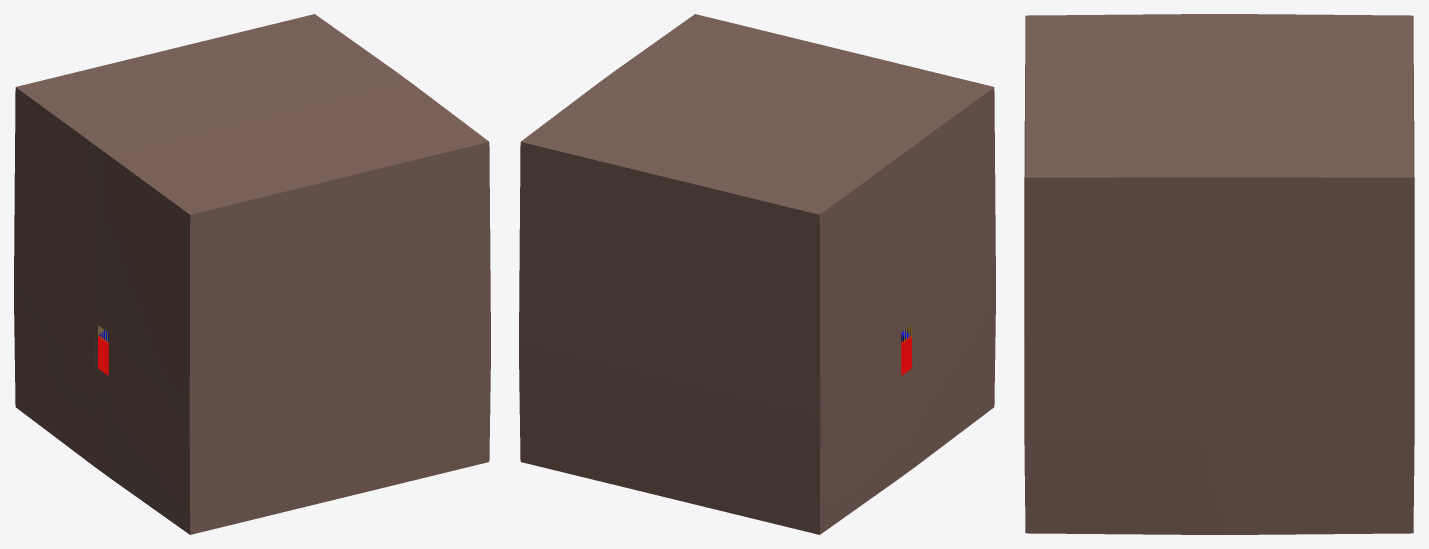
File: meta_Fish.fbx
The picture shows the model from 3 angles, left to right: view 1: azimuth 30°, elevation 25°; view 2: azimuth 150°, elevation 25°; view 3: azimuth 270°, elevation 25°; orthographic projection. The views are drawn at different scales.
Visible parts, largest first — view 1: pCube39; view 2: pCube39; view 3: pCube39.
Boxes of the visible parts, bbox=[...] form: pCube39: bbox=[14, 14, 490, 534]; pCube39: bbox=[519, 14, 995, 534]; pCube39: bbox=[1024, 14, 1414, 534].
Size of the model in its own units: 24.87 by 25.8 by 24.81.
